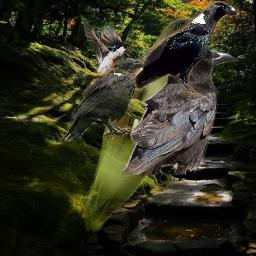Crow: (121, 42, 237, 175), (120, 1, 240, 97), (62, 58, 144, 142)
Cuckoo: (80, 15, 228, 232)
Swallow: (79, 13, 130, 98)
